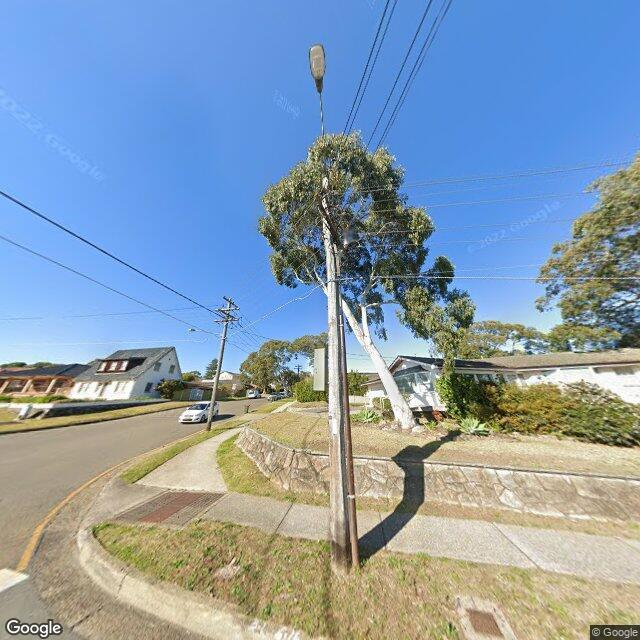crossarm: (316, 203, 348, 252), (219, 309, 235, 319), (224, 297, 238, 308), (215, 307, 240, 313), (214, 318, 239, 323)
streetlight: (310, 44, 327, 182)
timber-pole: (322, 177, 352, 574), (206, 298, 231, 431)
